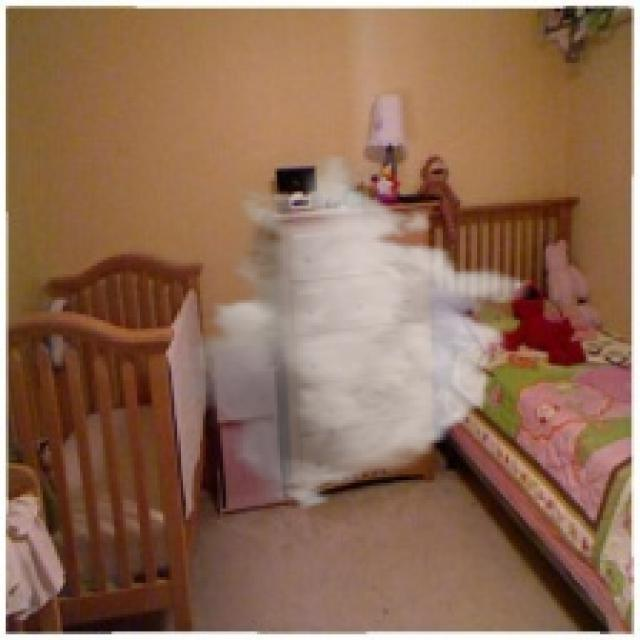Smoke: (172, 152, 534, 512)
